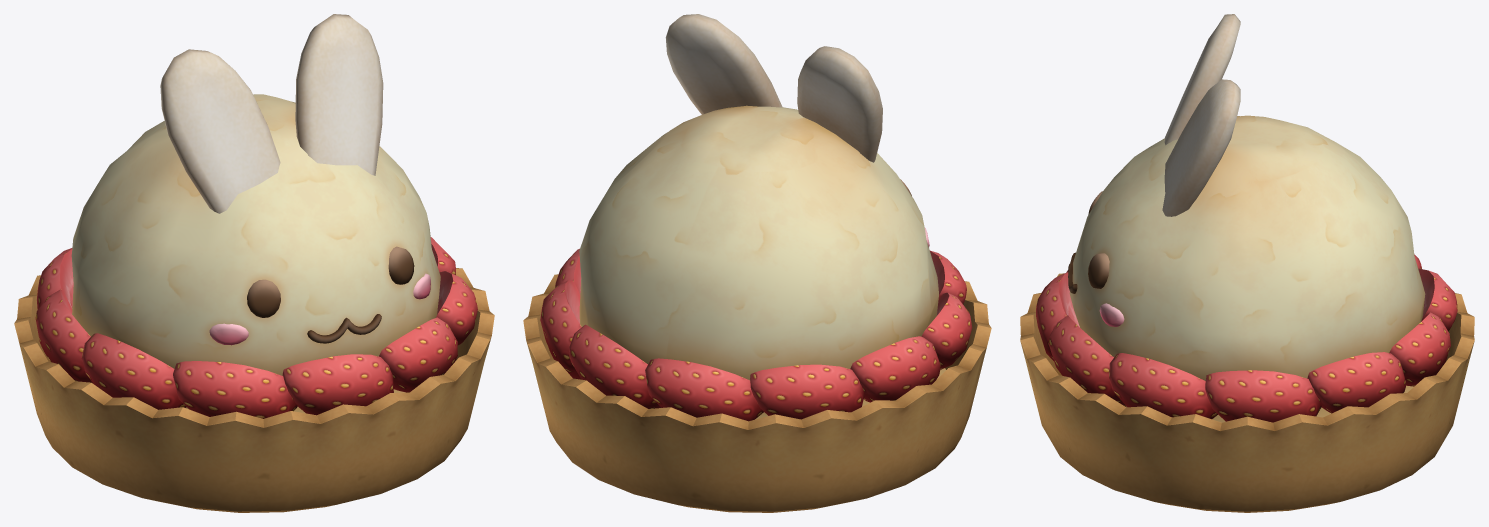
Rendered from CakeRabbit.fbx.
The picture shows the model from 3 angles, left to right: view 1: azimuth 30°, elevation 25°; view 2: azimuth 150°, elevation 25°; view 3: azimuth 270°, elevation 25°; orthographic projection. The views are drawn at different scales.
Visible parts, largest first — view 1: CakeRabbit; view 2: CakeRabbit; view 3: CakeRabbit.
Part boxes in pixels (<box>): CakeRabbit: <box>14,14,494,512</box>; CakeRabbit: <box>523,14,991,512</box>; CakeRabbit: <box>1020,14,1474,512</box>.
Bounding box in the file's own units: 0.2947 × 0.2771 × 0.2929.
